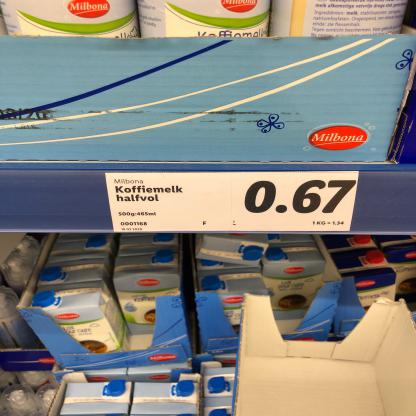prtg: (106, 172, 359, 233)
